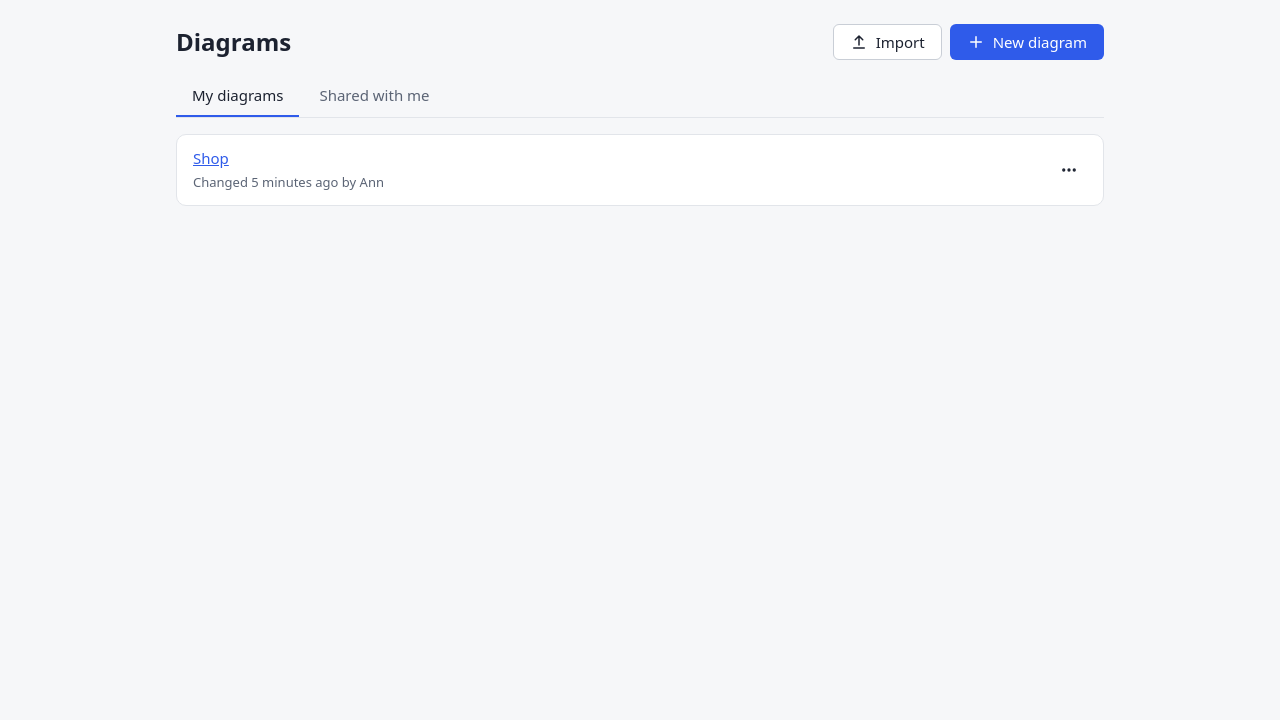
Test: DiagramListPage › shows the message for HTTP 412 and loads the list again
Click the button named "Actions for Shop": (1069, 170) [1051,152,1087,188]
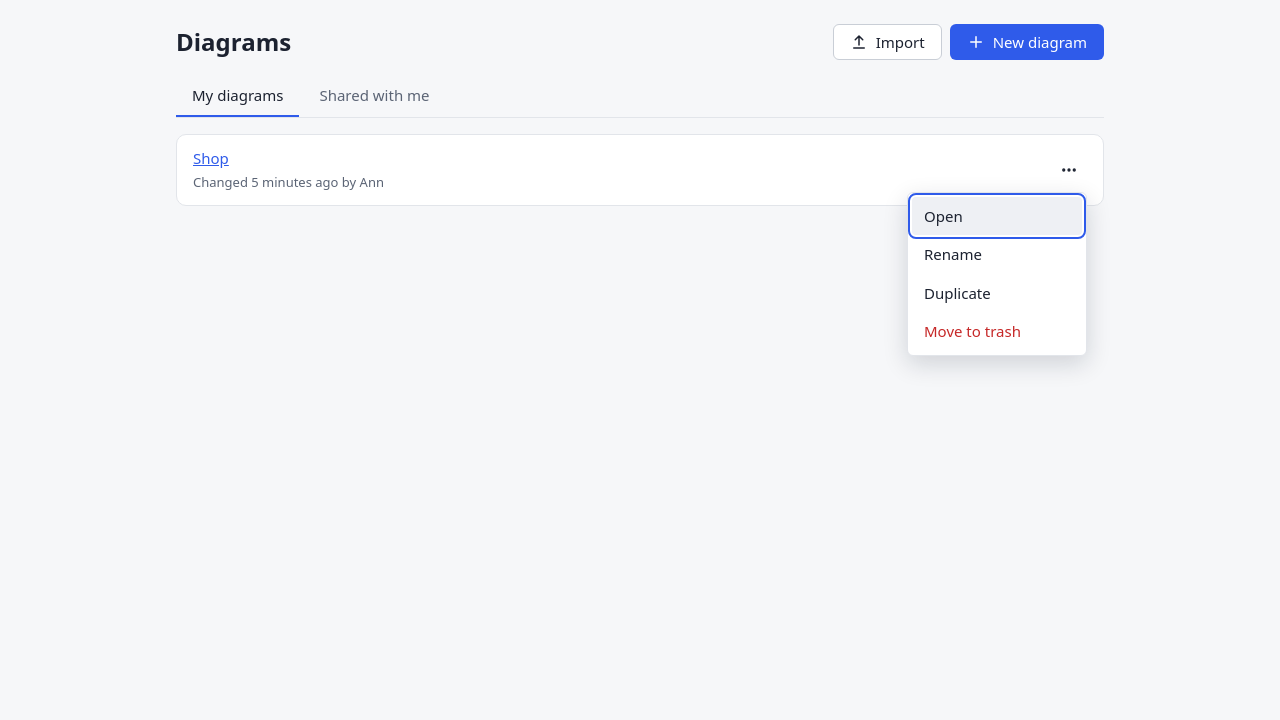
Click the menu item "Rename": (997, 254) [912,235,1082,274]
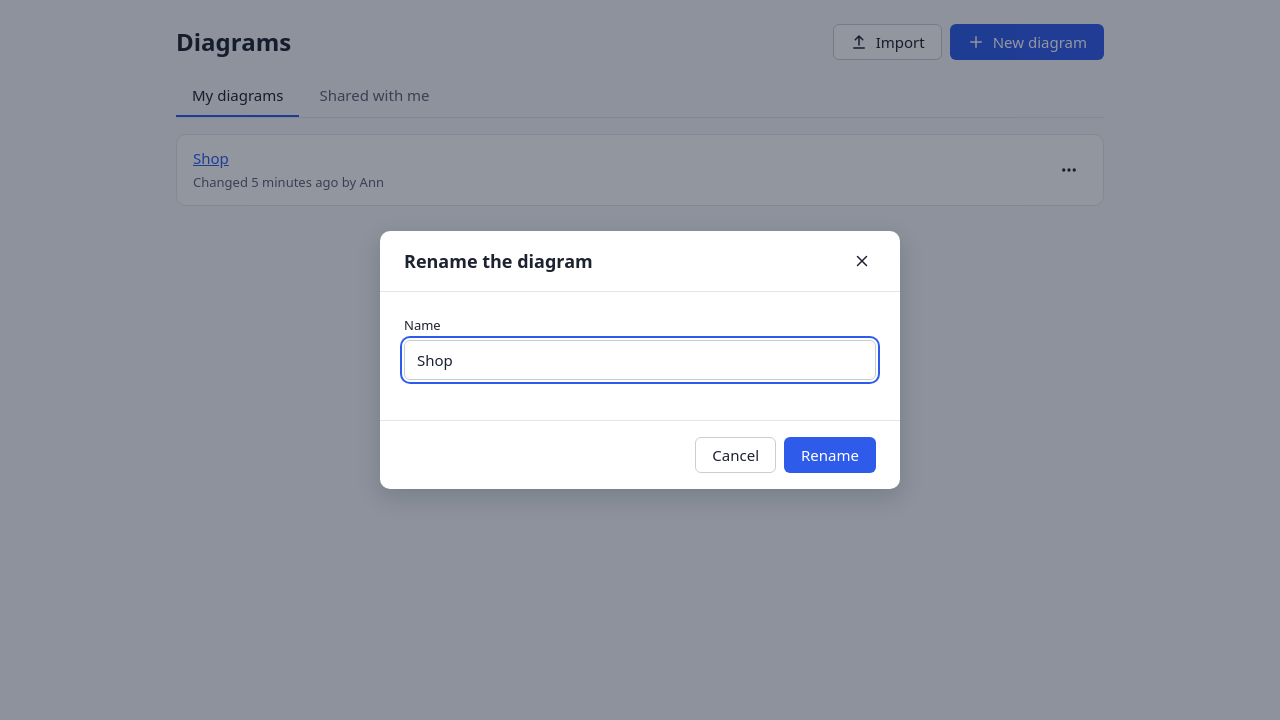
Click the button "Rename": (830, 455) [784,437,876,473]
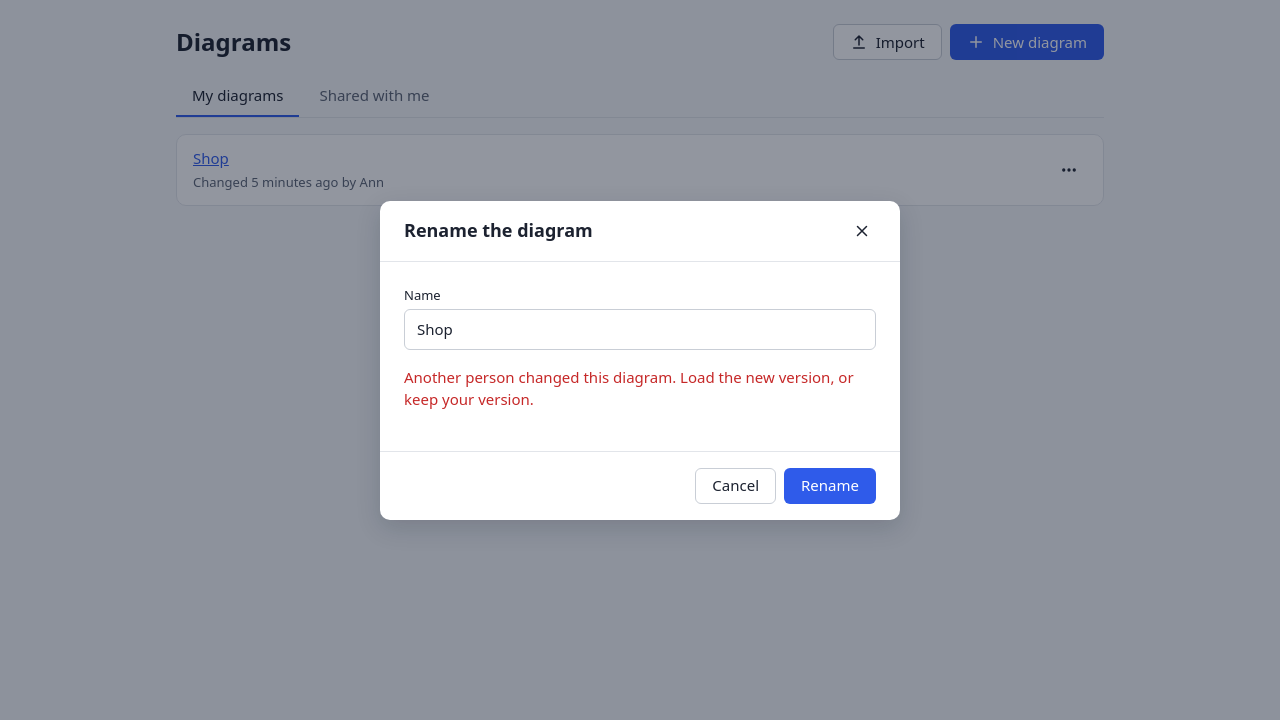
Check: the text "Another person changed this diagram. Load the new version, or keep your version." is shown, box [404,366,876,410]
